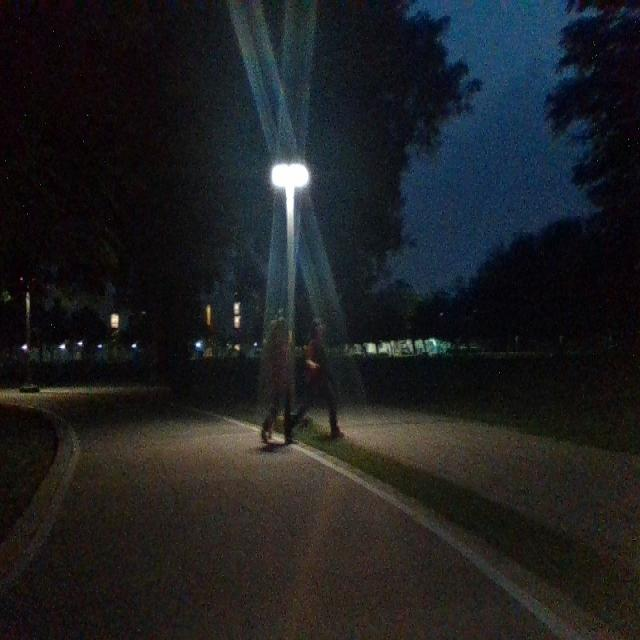lane: (7, 422, 554, 633)
